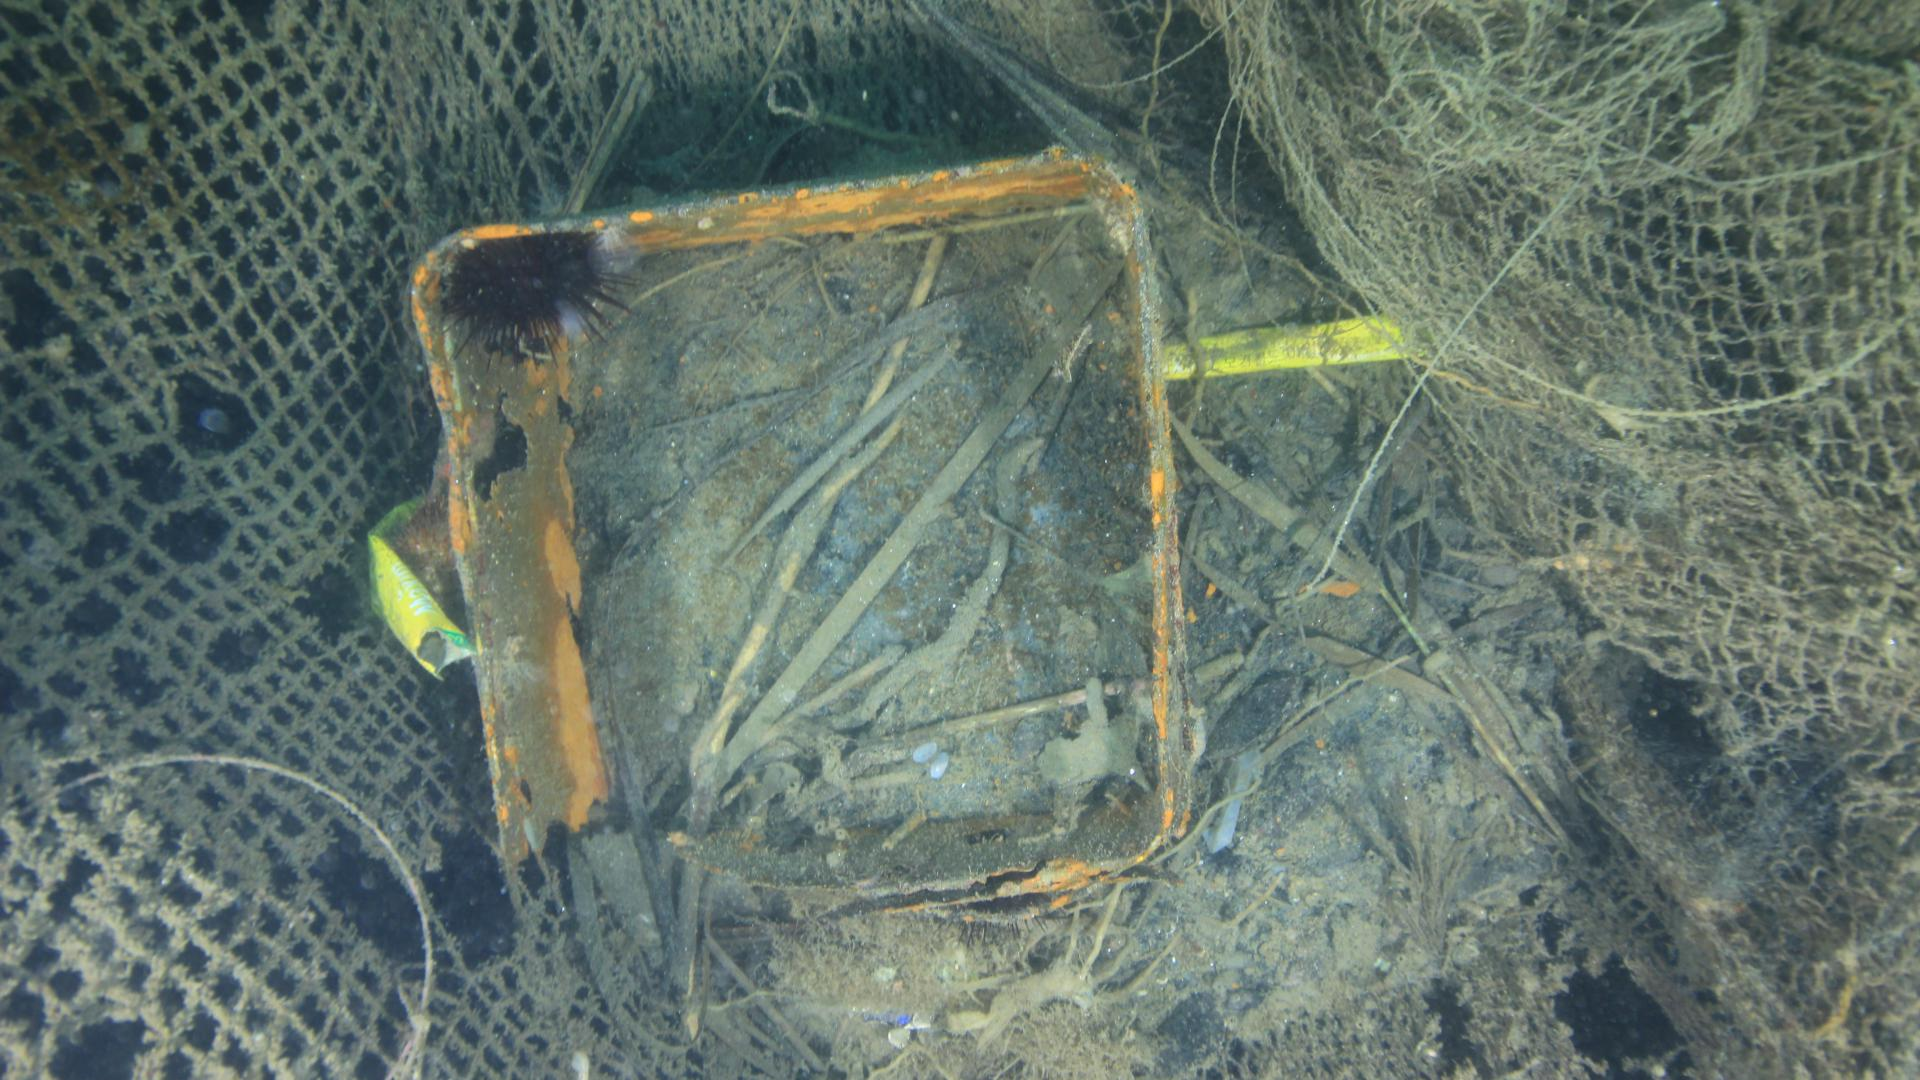fish net: (0, 3, 920, 1080), (1462, 7, 1920, 731)
